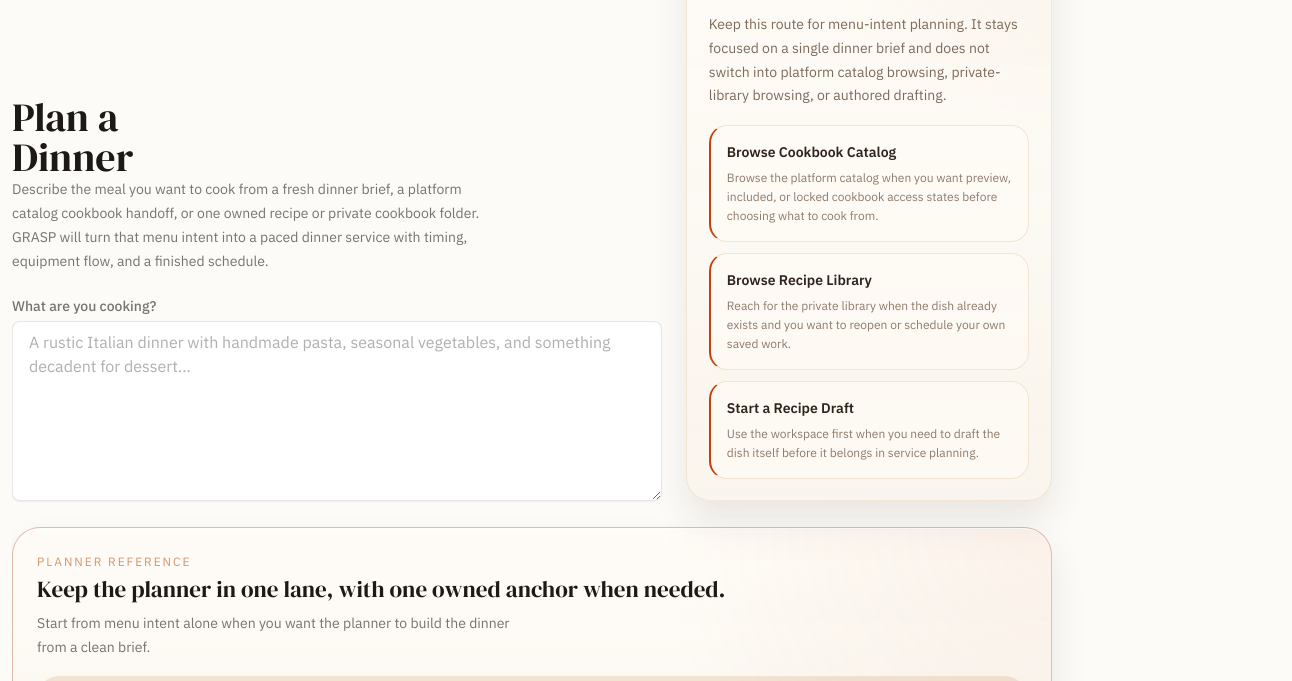
it: NewSessionPage › displays fallback error text when the run kickoff rejects with a malformed response
The image size is (1292, 681).
Type "A bright spring dinner" into the text box labelled "What are you cooking?". click: (337, 411)
box: [12,321,662,501]
(page scrolled)
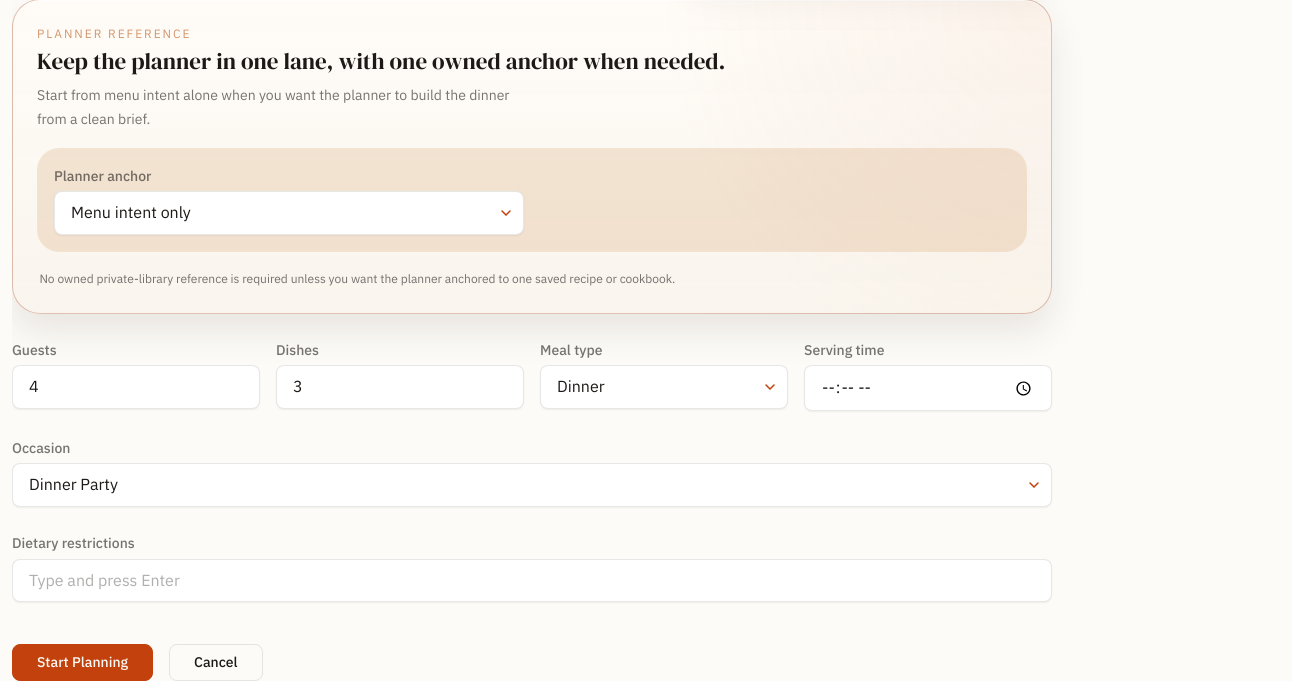
Click the button "Start Planning". click: click(82, 663)
box: [12,644,153,680]
(page scrolled)
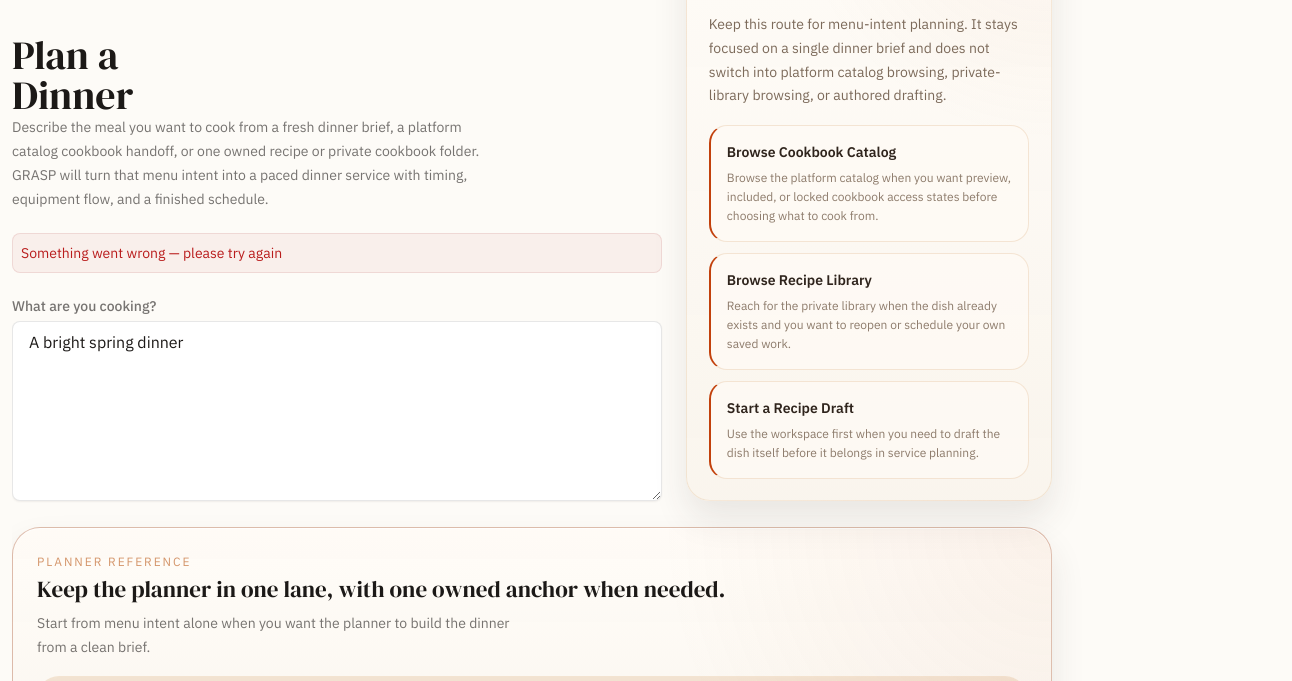
Expected: the text "Something went wrong — please try again" is shown, [12,233,662,273]
